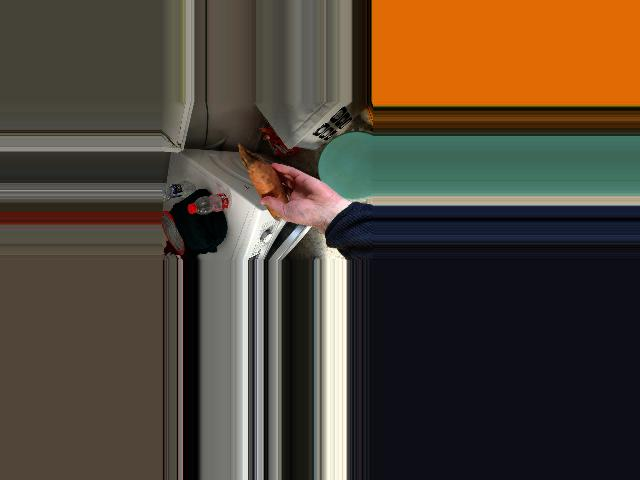sweet_potato: (250, 165, 290, 212)
